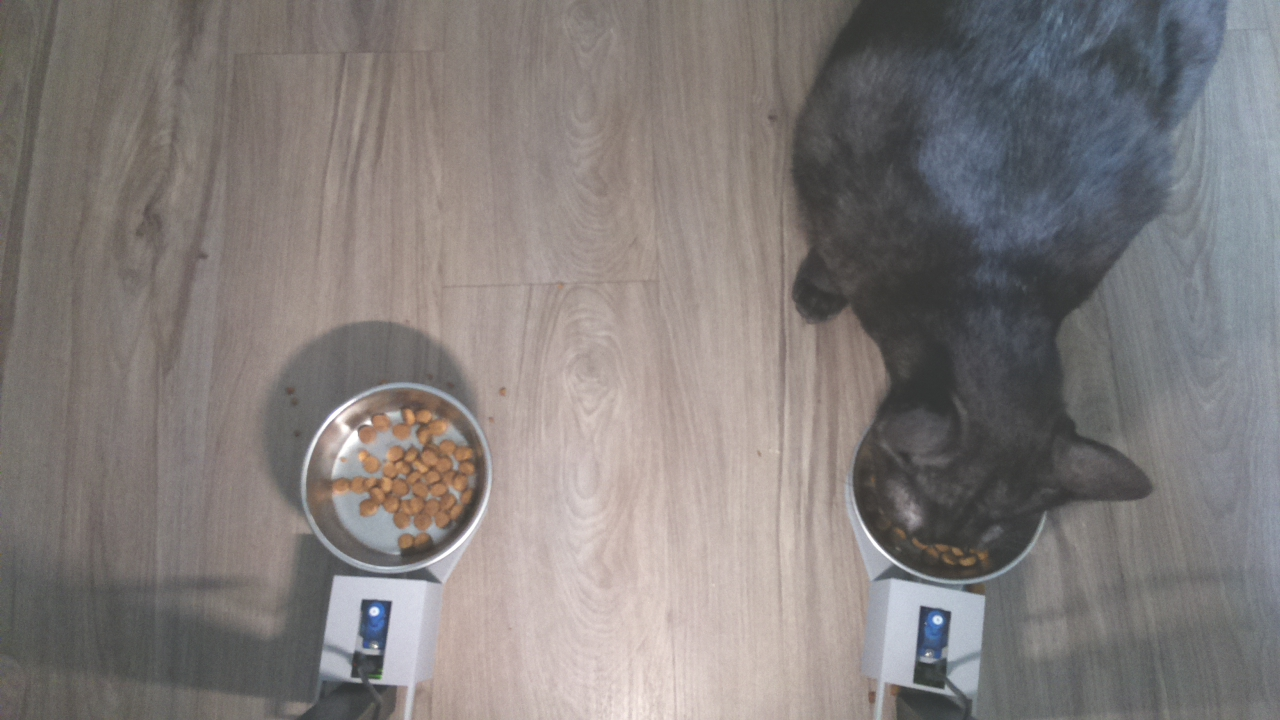open_bowl: (297, 375, 492, 579)
saki_eating: (839, 323, 1159, 571)
